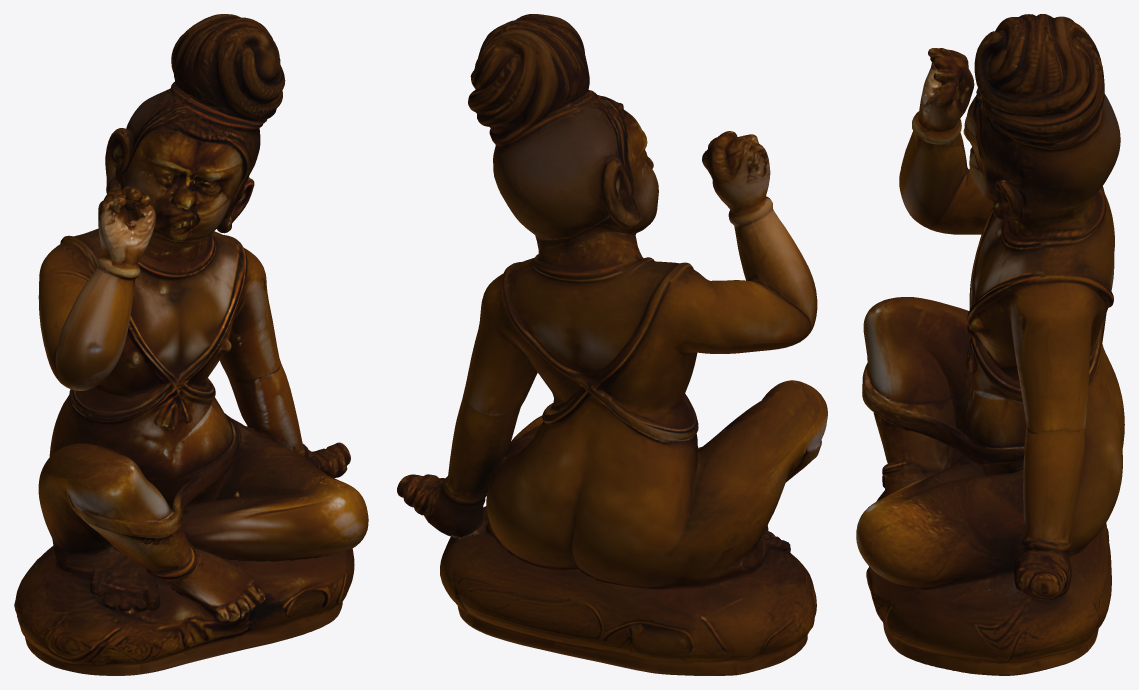
3 renders of one model, left to right at view 1: azimuth 30°, elevation 25°; view 2: azimuth 150°, elevation 25°; view 3: azimuth 270°, elevation 25°, orthographic. The views are drawn at different scales.
Parts seen in each view (by area): view 1: textured_mesh; view 2: textured_mesh; view 3: textured_mesh.
Part boxes in pixels (x1,y1,x2,y2): textured_mesh: [14, 14, 368, 675]; textured_mesh: [397, 14, 827, 675]; textured_mesh: [856, 14, 1124, 675].
Bounding box in the file's own units: 1.3 × 1.99 × 0.7887.
1 material, 1 textured.
